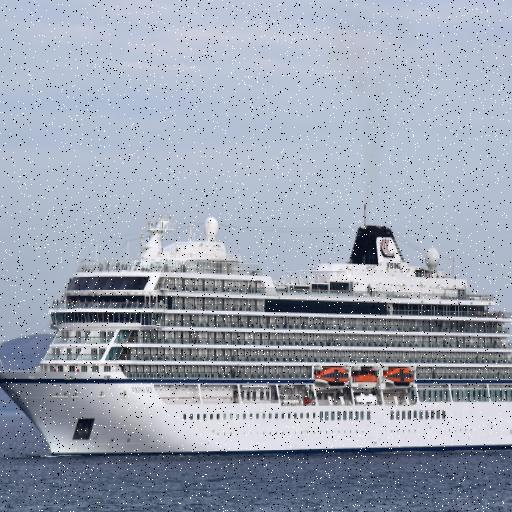cruises: (1, 202, 512, 463)
